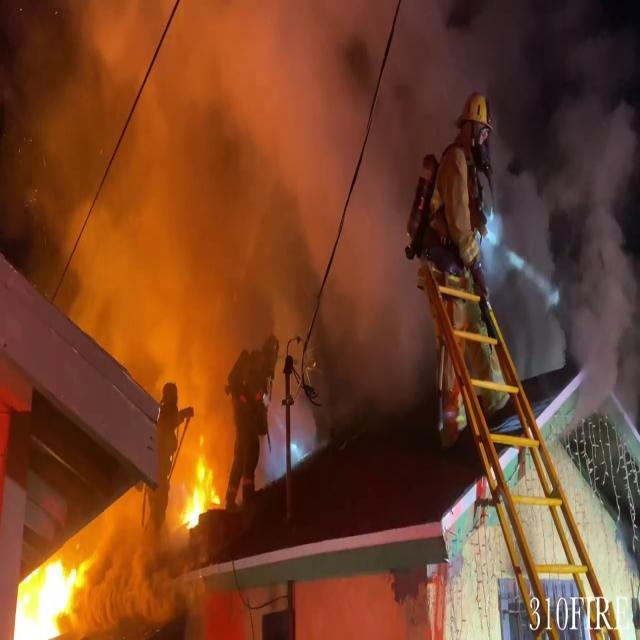Fire: (9, 538, 82, 640), (180, 437, 222, 535)
Smoke: (1, 0, 447, 412), (516, 4, 640, 432)
